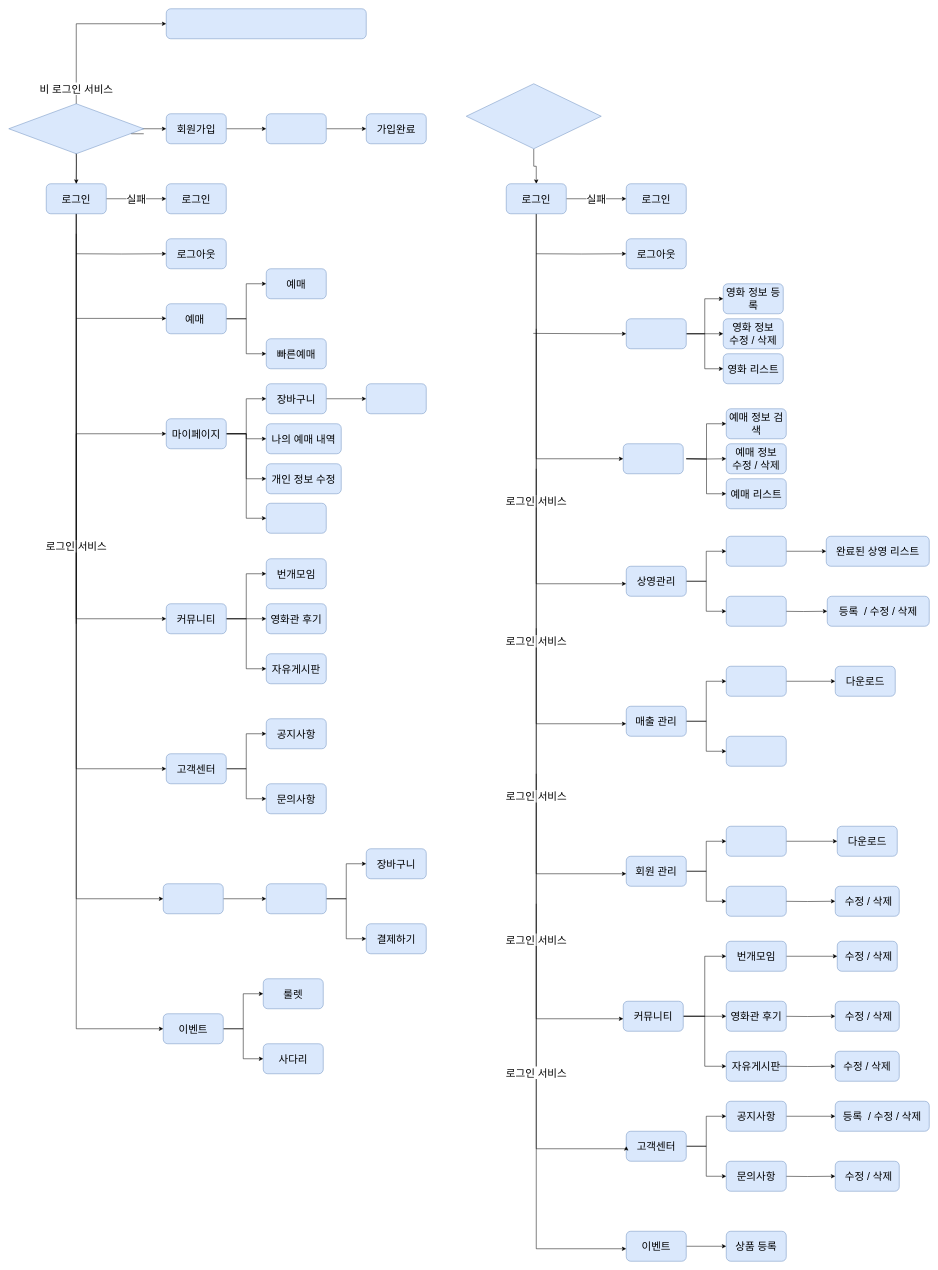
Some shapes in this 938 by 1270 pixel diagram are drawn without their labels. The centre of each missing label's shape, as x and y in pixels:
"결제" belongs at (x=396, y=398).
"관리자 페이지" belongs at (x=533, y=116).
"로그인, 영화정보, 커뮤니티, 자유게시판, 공지사항" belongs at (x=266, y=23).
"매점" belongs at (x=193, y=898).
"매출 정보 리스트" belongs at (x=756, y=681).
"메인 페이지" belongs at (x=76, y=128).
"삼품" belongs at (x=296, y=898).
"상영 리스트" belongs at (x=756, y=551).
"상영 시간표" belongs at (x=756, y=611).
"영화 관리" belongs at (x=656, y=333).
"영화별 매출 리스트" belongs at (x=756, y=751).
"예매 관리" belongs at (x=653, y=458).
"인증" belongs at (x=296, y=128).
"회원 리스트" belongs at (x=756, y=841).
"회원 정보" belongs at (x=756, y=901).
"회원 탈퇴" belongs at (x=296, y=518).
